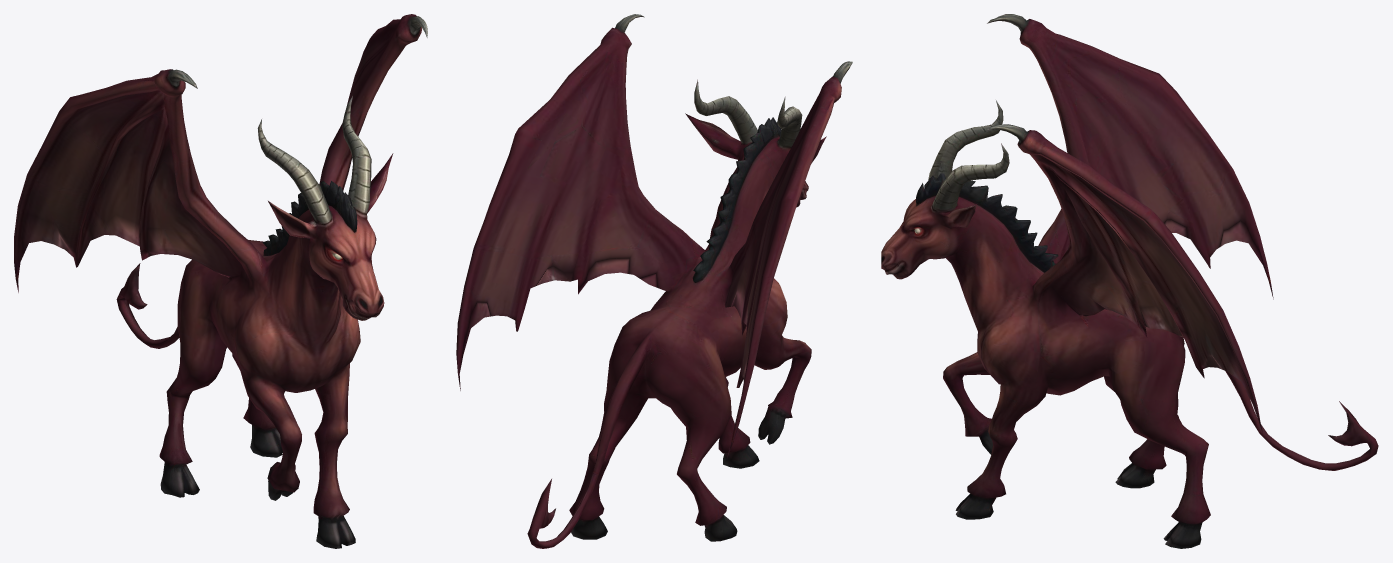
Rendered from devil.glb.
3 views of the same model, side by side, from view 1: azimuth 30°, elevation 25°; view 2: azimuth 150°, elevation 25°; view 3: azimuth 270°, elevation 25° (orthographic). The views are drawn at different scales.
Size of the model in its own units: 0.6872 by 0.9871 by 1.
1 material, 1 textured.
